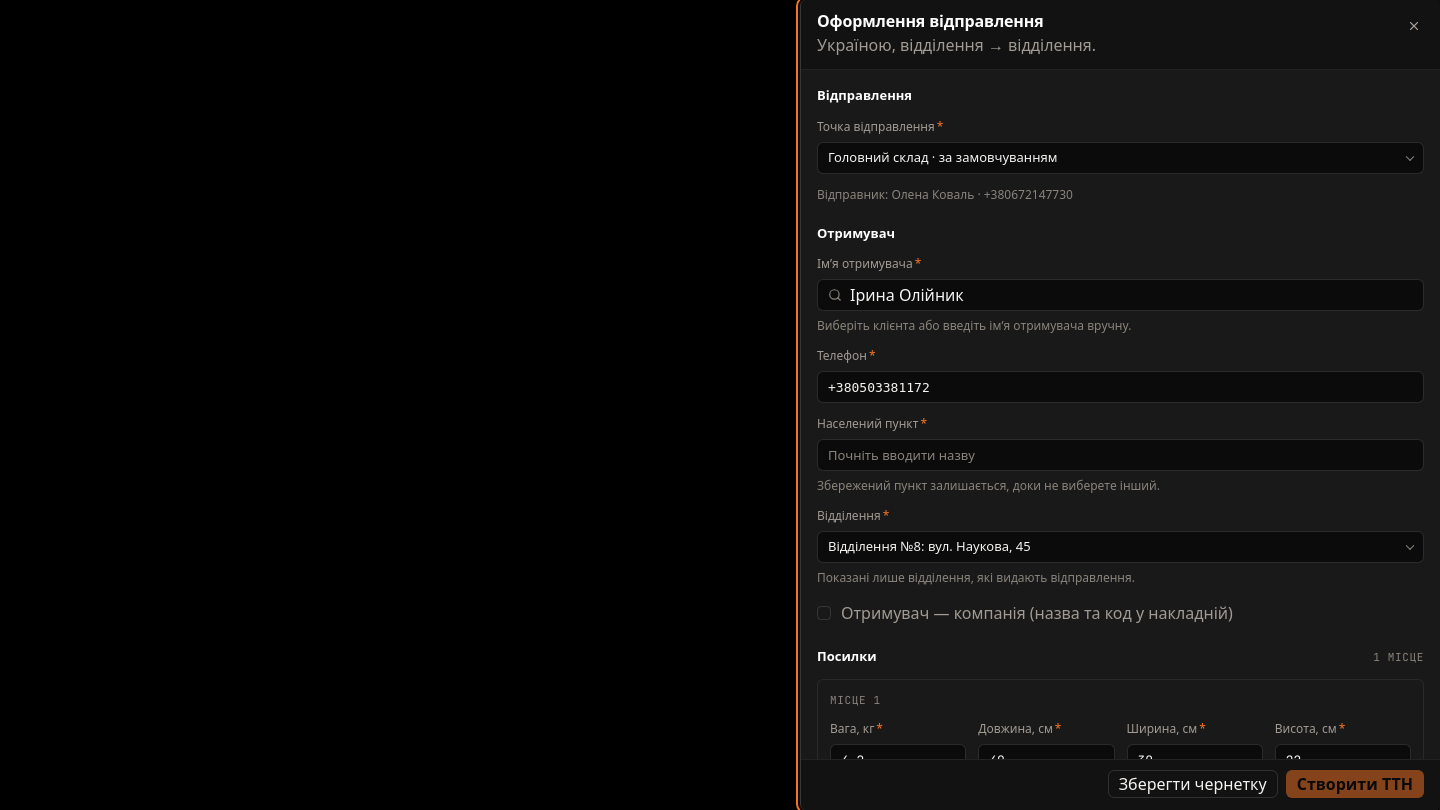
Test: clears a previous phone when the selected customer has none
Replace the text in the search field labelled "Ім’я отримувача" with "Клієнт" at {"x": 1132, "y": 295}, box [850,283,1413,307]
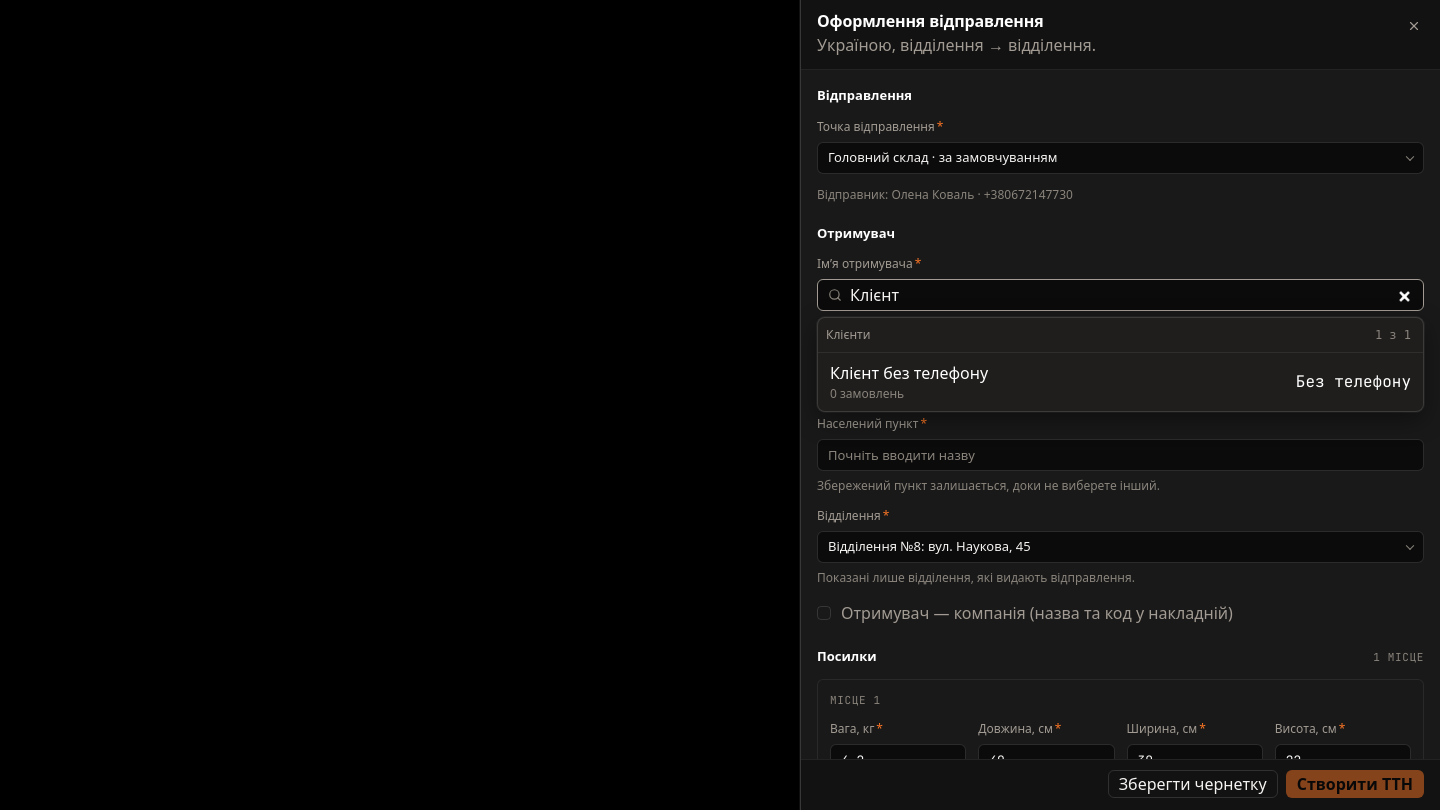
Click the option with aria-label "Обрати клієнта Клієнт без телефону" at {"x": 909, "y": 373}, box [818,353,1423,411]
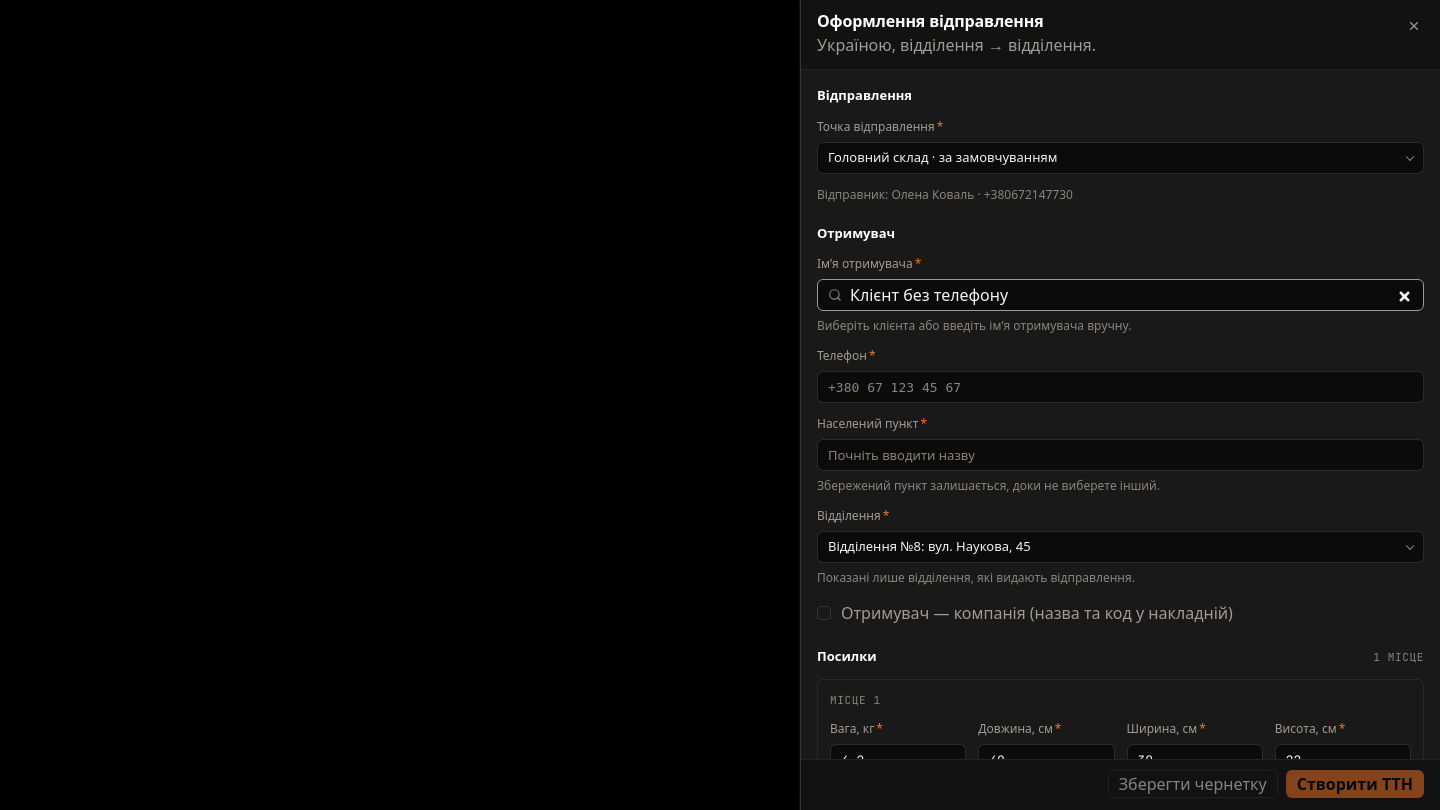
Result: the field labelled "Телефон" is empty at [817,371,1424,403]
Result: the button "Зберегти чернетку" is disabled at [1108,770,1278,798]
